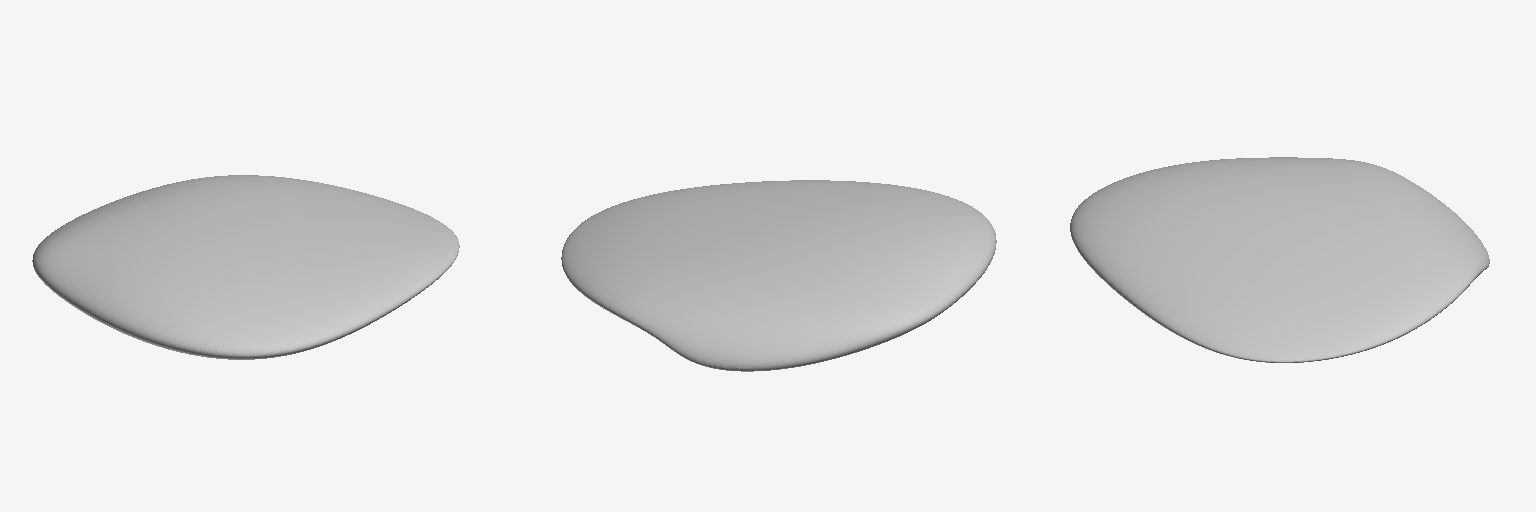
3 renders of one model, left to right at view 1: azimuth 30°, elevation 25°; view 2: azimuth 150°, elevation 25°; view 3: azimuth 270°, elevation 25°, orthographic.
Visible parts, largest first — view 1: Quad_Sphere; view 2: Quad_Sphere; view 3: Quad_Sphere.
Boxes of the visible parts, x1,y1,x2,y2 form: Quad_Sphere: [32, 175, 459, 359]; Quad_Sphere: [561, 180, 996, 371]; Quad_Sphere: [1070, 157, 1489, 362].
Bounding box in the file's own units: 3.3 × 0.4694 × 3.2.